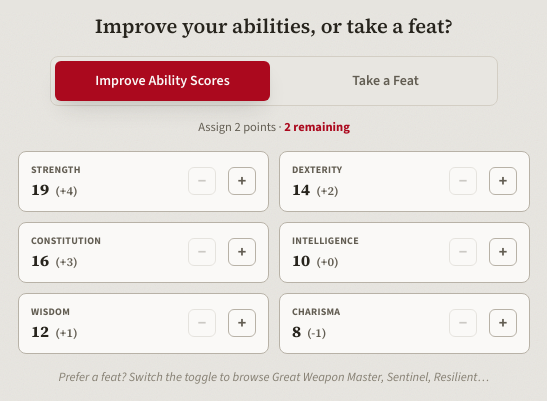
Test: AbilityScoreStep — ASI branch › caps a single ability at 20, disabling its further increase (start 19)
Click the button named "increase strength" at [242, 181], box [228, 167, 256, 195]
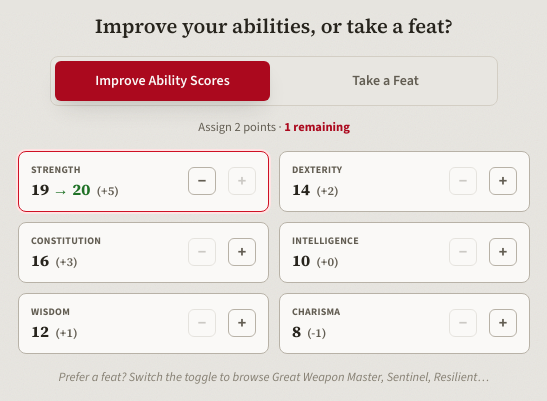
Expected: the text "→ 20" is shown, [49, 178, 90, 200]
Expected: the text "1 remaining" is shown, [284, 118, 350, 135]
